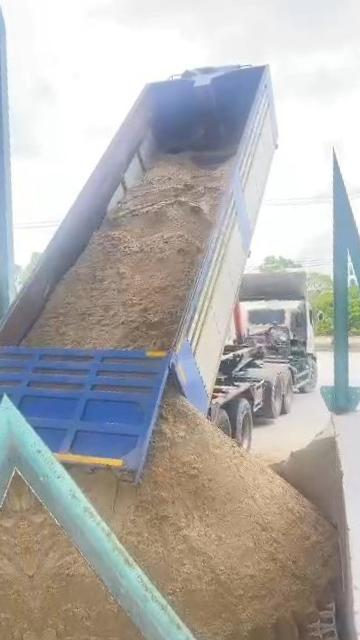sand: (71, 394, 340, 640), (23, 157, 226, 348), (18, 480, 148, 640), (272, 426, 343, 529)
